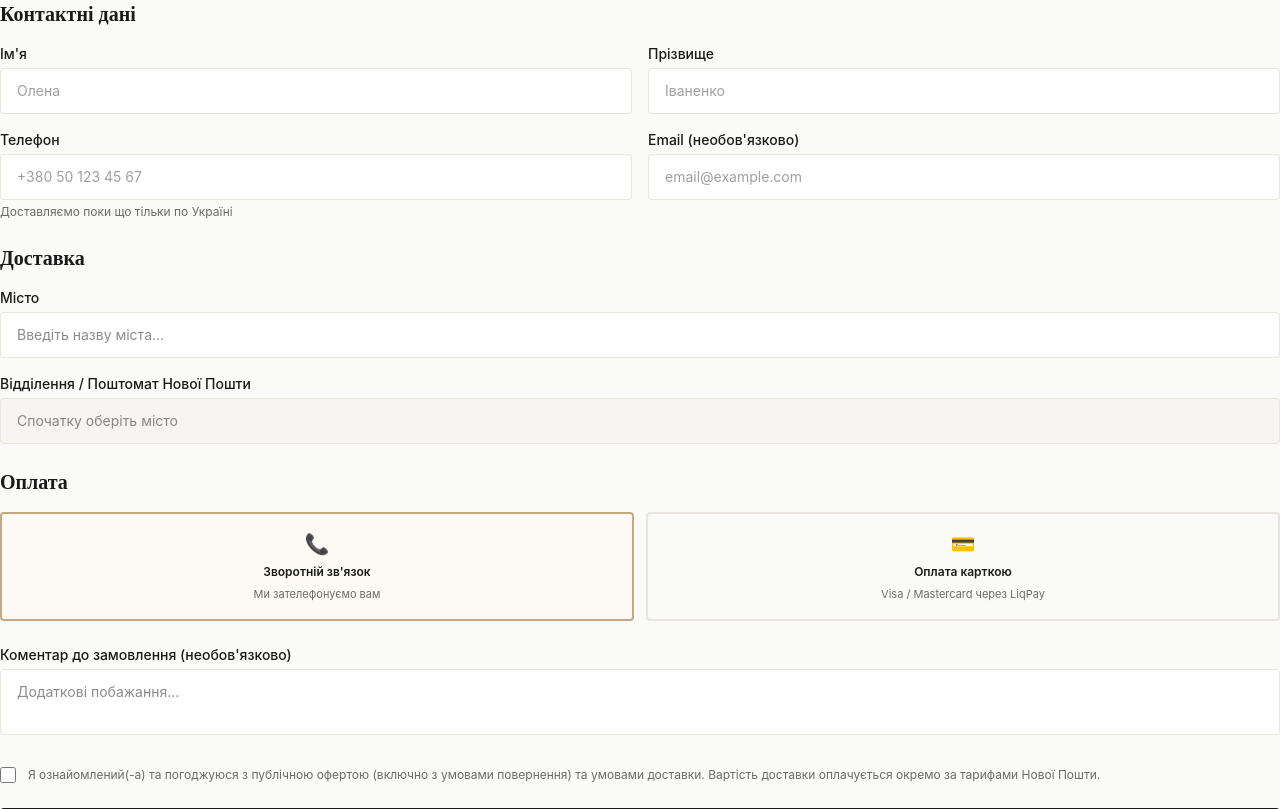
Scenario: OrderForm › невалідний телефон: помилка з'являється одразу після виходу з поля, без сабміту
The image size is (1280, 809).
Step 1. Type "123" into the field labelled "Телефон" → x=316, y=177, box [0, 154, 632, 200]
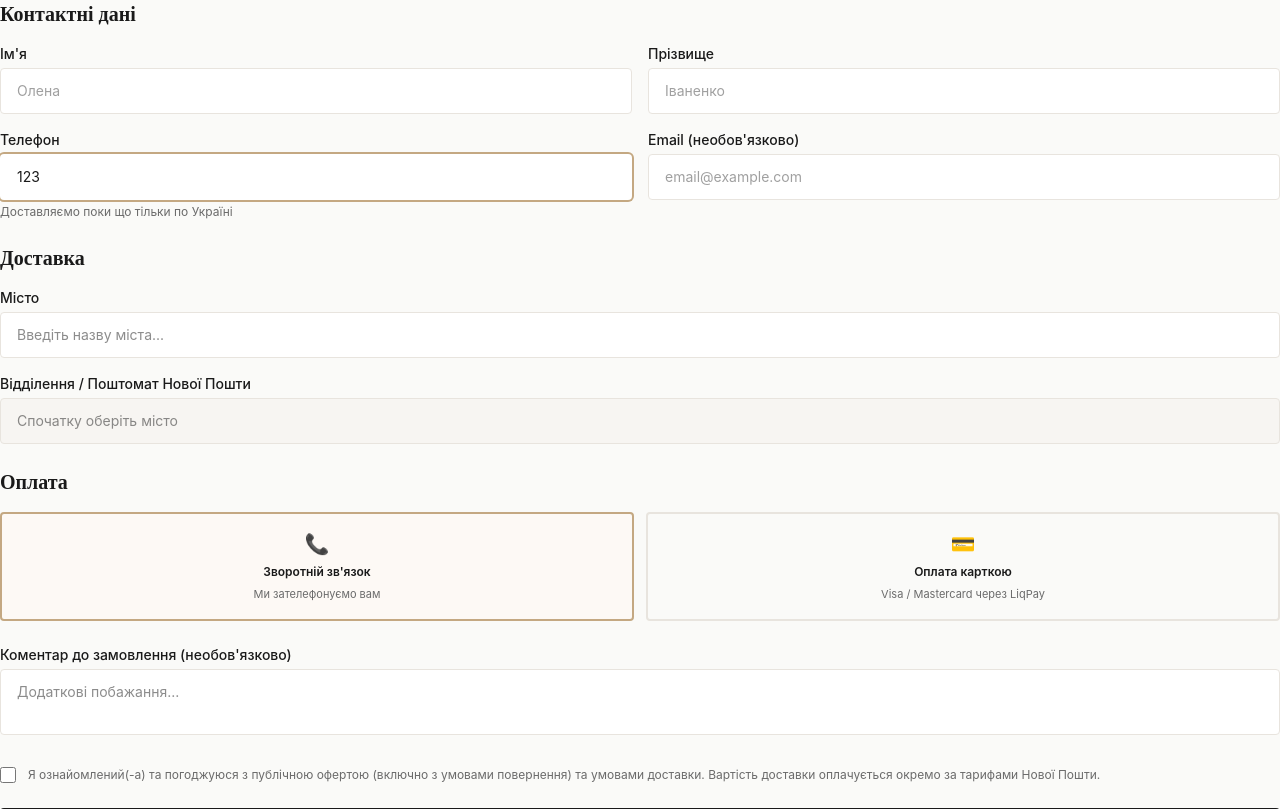
Step 2. Press Tab
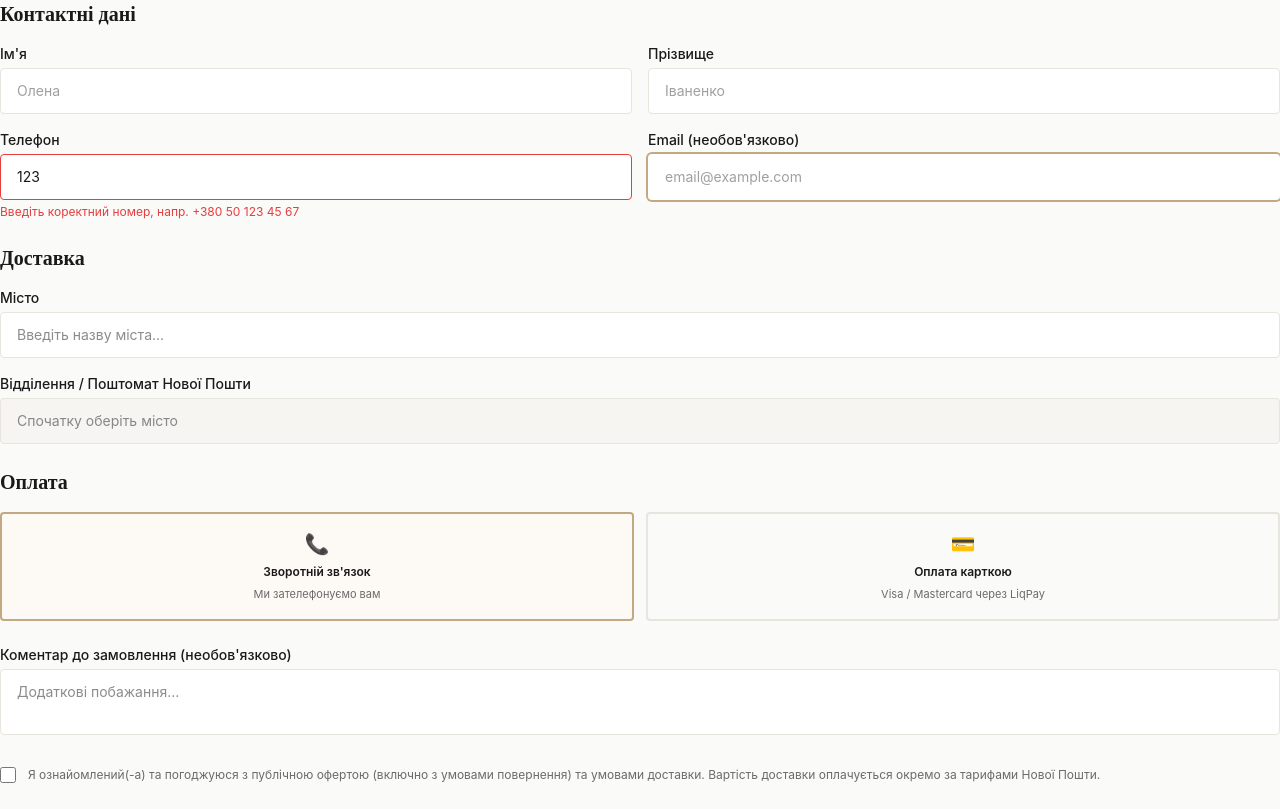
expect the text "Введіть коректний номер, напр. +380 50 123 45 67" is shown: met, box [0, 204, 299, 219]
